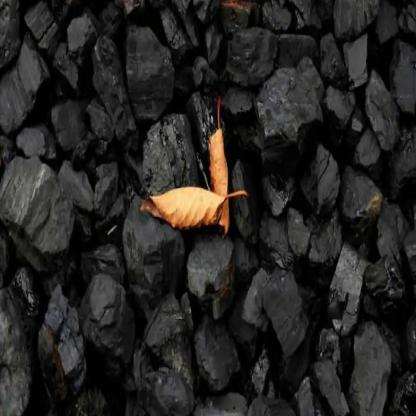Sedimentary_coal: (0, 144, 78, 254), (112, 197, 190, 305), (120, 10, 183, 129), (251, 49, 330, 141), (237, 257, 304, 347), (40, 280, 86, 402), (0, 30, 54, 132), (324, 232, 371, 339), (139, 352, 207, 415), (66, 6, 93, 58)
